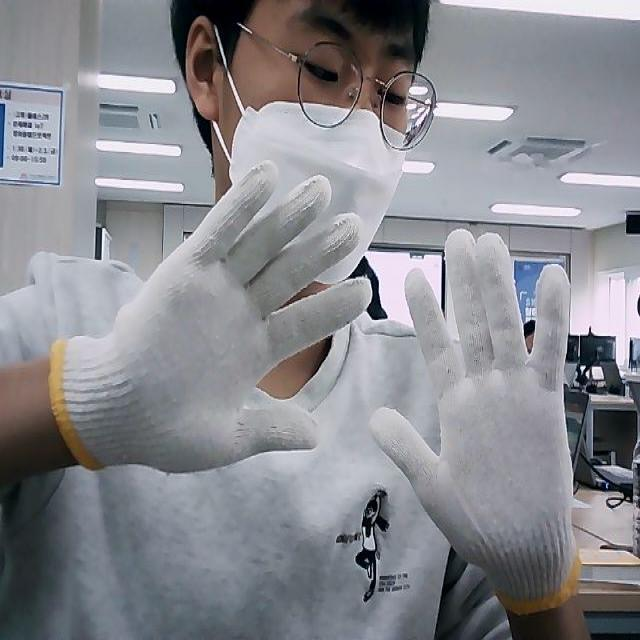GLOVE: (50, 162, 372, 472), (376, 228, 581, 612)
